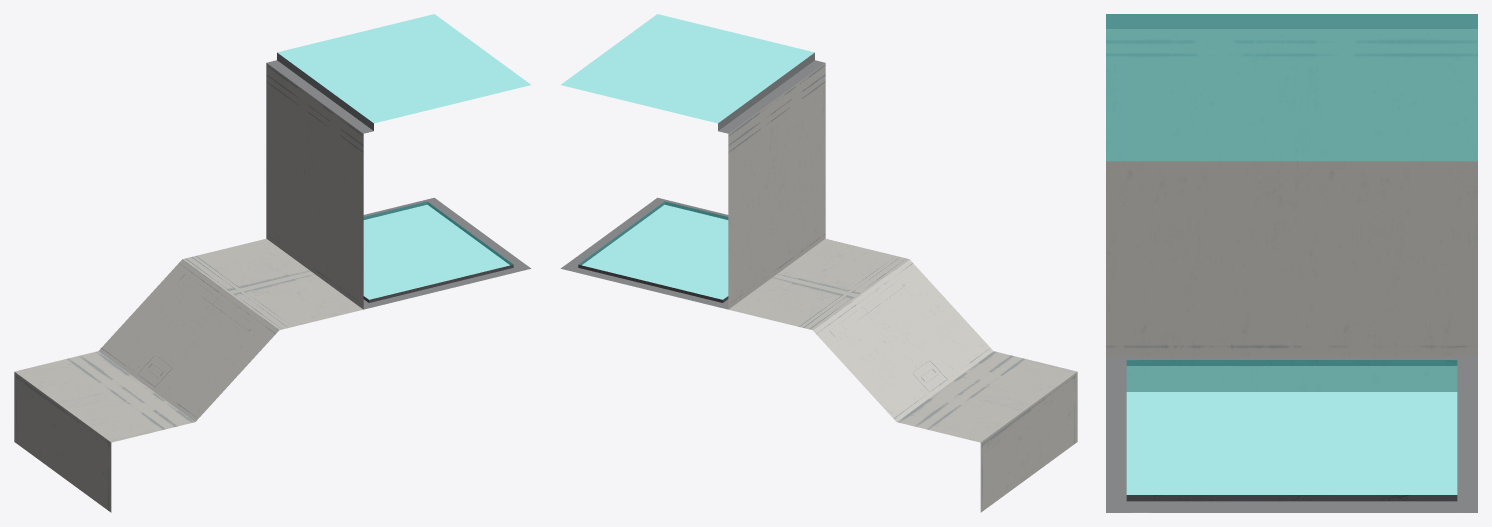
Rendered from G_Env_Arch_Ceiling_02_Glass.fbx.
3 renders of one model, left to right at view 1: azimuth 30°, elevation 25°; view 2: azimuth 150°, elevation 25°; view 3: azimuth 270°, elevation 25°, orthographic. The views are drawn at different scales.
Visible parts, largest first — view 1: G_Env_Arch_Ceiling_02_Glass; view 2: G_Env_Arch_Ceiling_02_Glass; view 3: G_Env_Arch_Ceiling_02_Glass.
Part boxes in pixels (bbox=[...]): G_Env_Arch_Ceiling_02_Glass: bbox=[14, 14, 530, 512]; G_Env_Arch_Ceiling_02_Glass: bbox=[561, 14, 1077, 512]; G_Env_Arch_Ceiling_02_Glass: bbox=[1106, 14, 1477, 512].
Bounding box in the file's own units: 1250 × 925 × 500.
